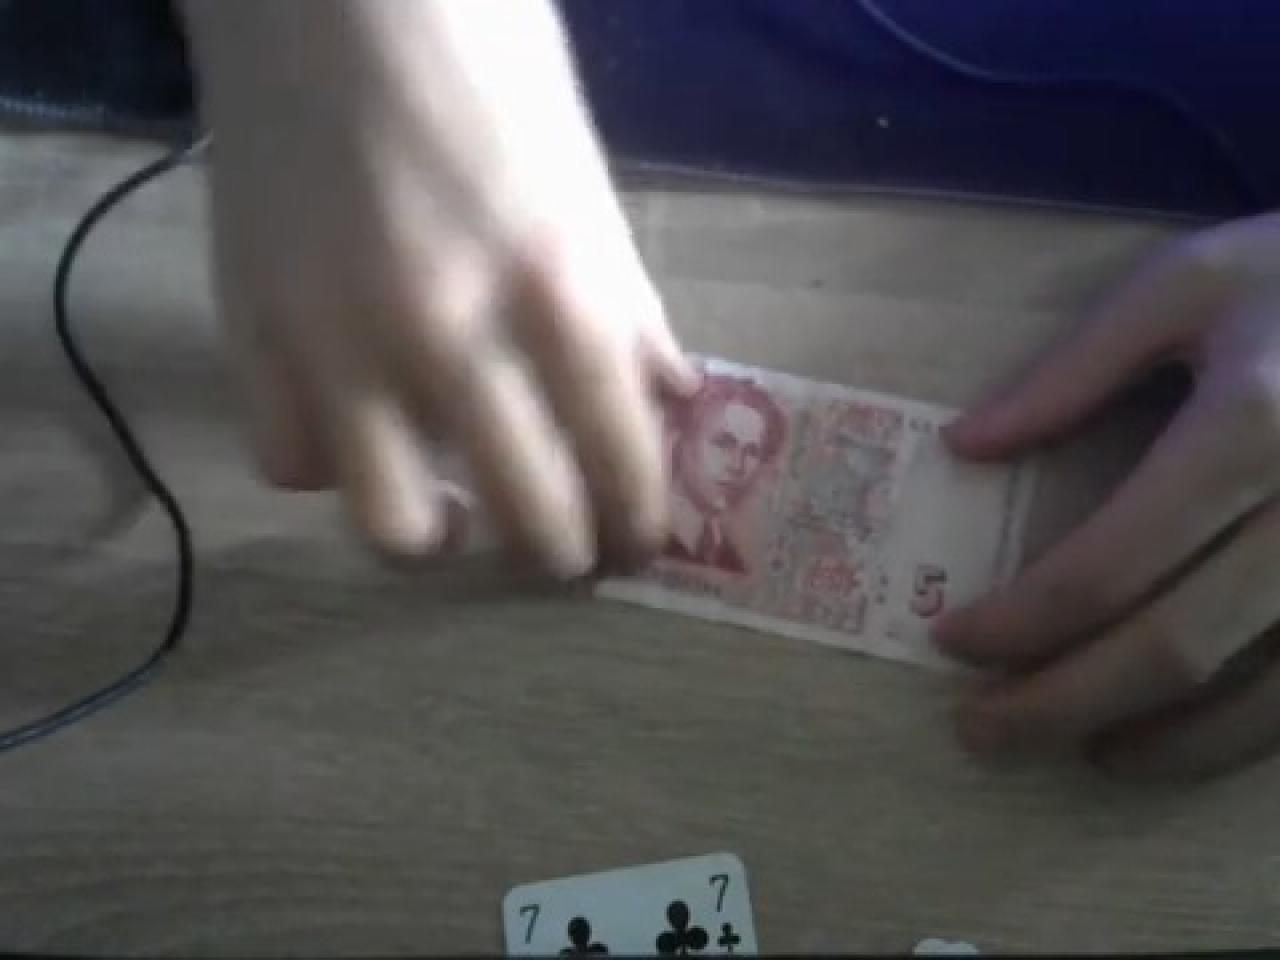5leva: (651, 360, 1016, 670)
